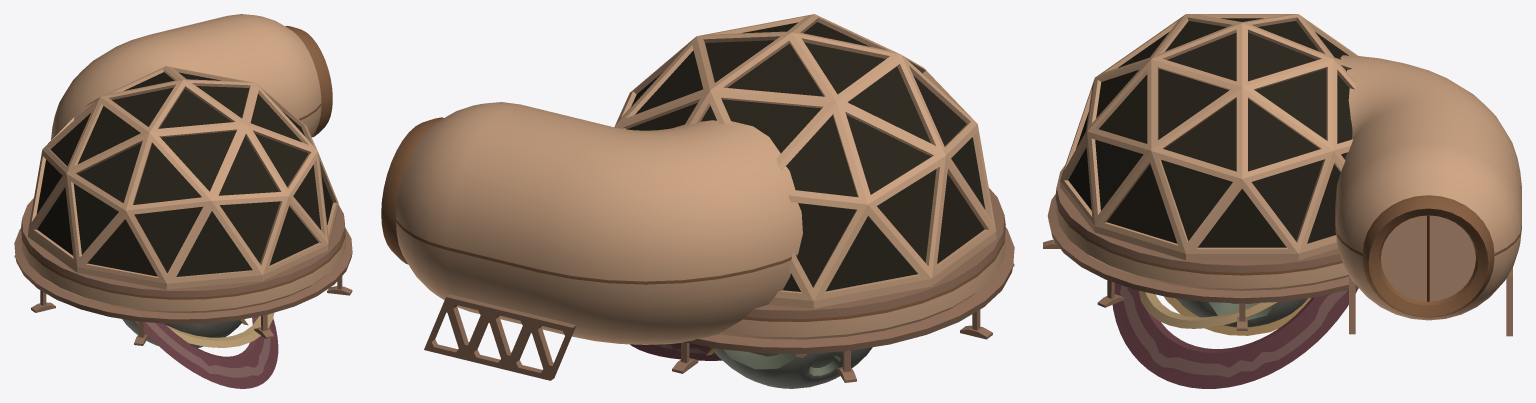
The model's file is space-scenery.glb.
The picture shows the model from 3 angles, left to right: view 1: azimuth 30°, elevation 25°; view 2: azimuth 150°, elevation 25°; view 3: azimuth 270°, elevation 25°; orthographic projection. The views are drawn at different scales.
Parts seen in each view (by area): view 1: GeodesicDome, Building_L, Planet_10, Planet_7, Planet_3; view 2: Building_L, GeodesicDome, Planet_3, Planet_10; view 3: GeodesicDome, Building_L, Planet_10, Planet_7, Planet_3.
Boxes of the visible parts, x1,y1,x2,y2 form: GeodesicDome: (14, 66, 352, 345); Building_L: (51, 14, 332, 139); Planet_10: (135, 316, 278, 388); Planet_7: (166, 313, 274, 347); Planet_3: (122, 319, 244, 348); Building_L: (381, 102, 807, 380); GeodesicDome: (614, 14, 1014, 382); Planet_3: (711, 347, 872, 388); Planet_10: (630, 343, 722, 360); GeodesicDome: (1043, 14, 1357, 330); Building_L: (1335, 55, 1521, 336); Planet_10: (1112, 283, 1358, 388); Planet_7: (1139, 290, 1310, 335); Planet_3: (1176, 298, 1307, 327).
Size of the model in its own units: 10.07 by 7.72 by 10.25.
Materials: 1 (1 with a texture image).
